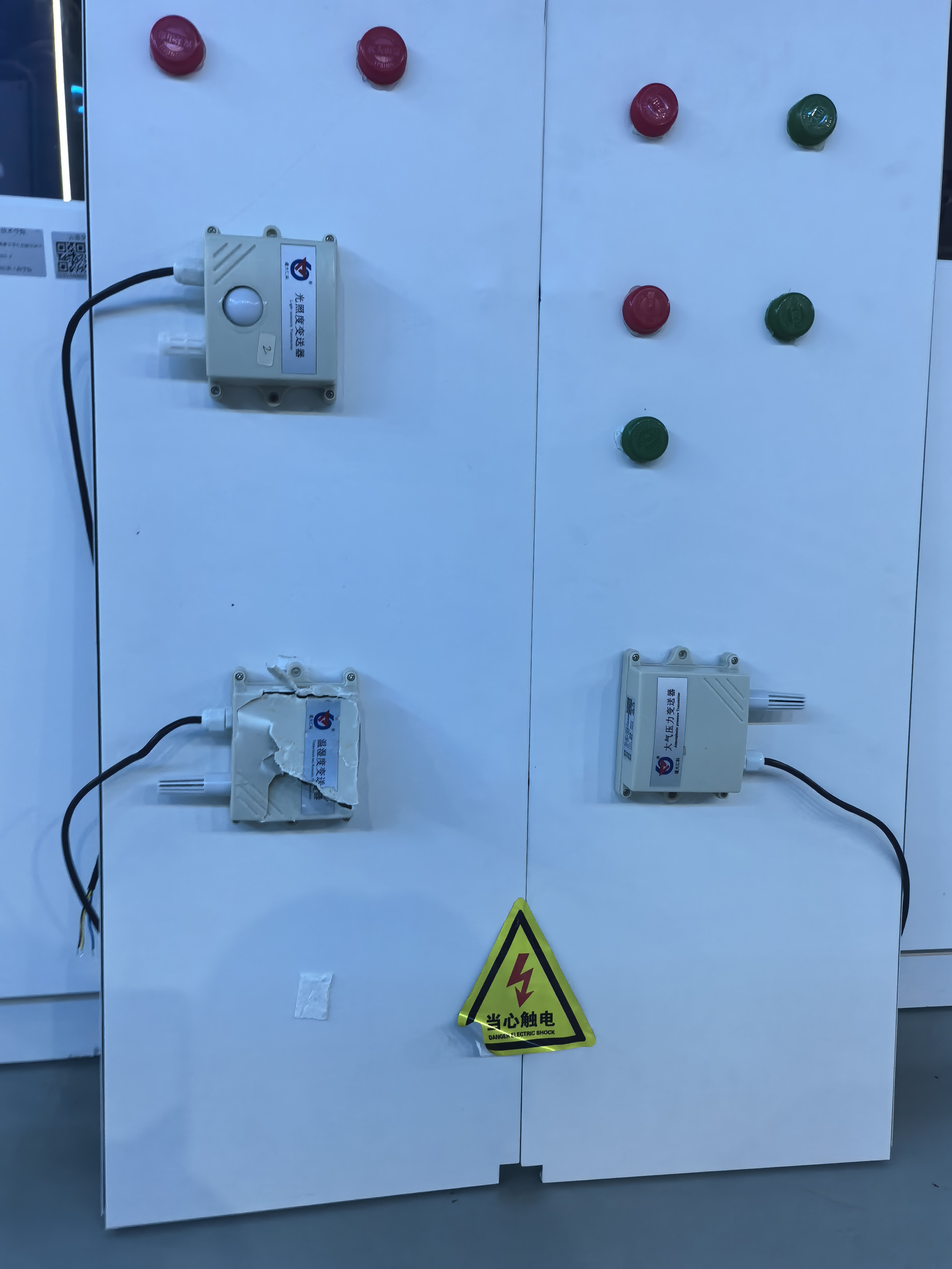red_warning: (342, 18, 450, 116), (610, 63, 696, 154), (602, 264, 689, 349), (137, 13, 219, 78)
sensor_damage: (143, 638, 388, 846)
